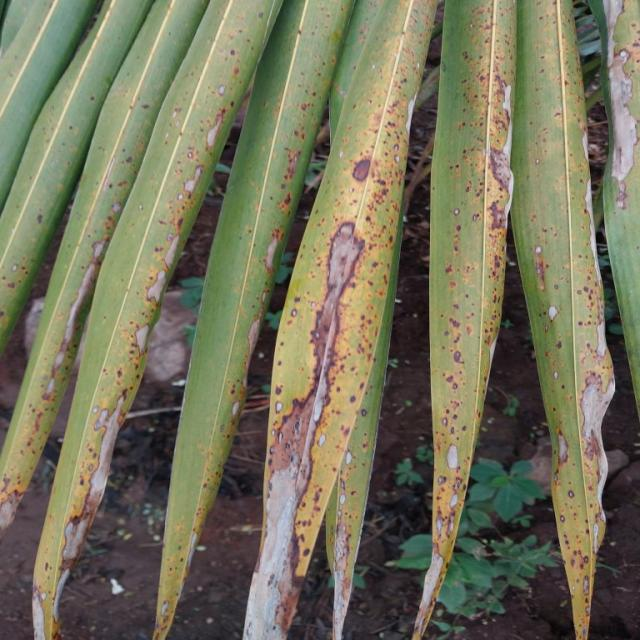gray leaf spot: (263, 165, 393, 632), (539, 11, 634, 615)
